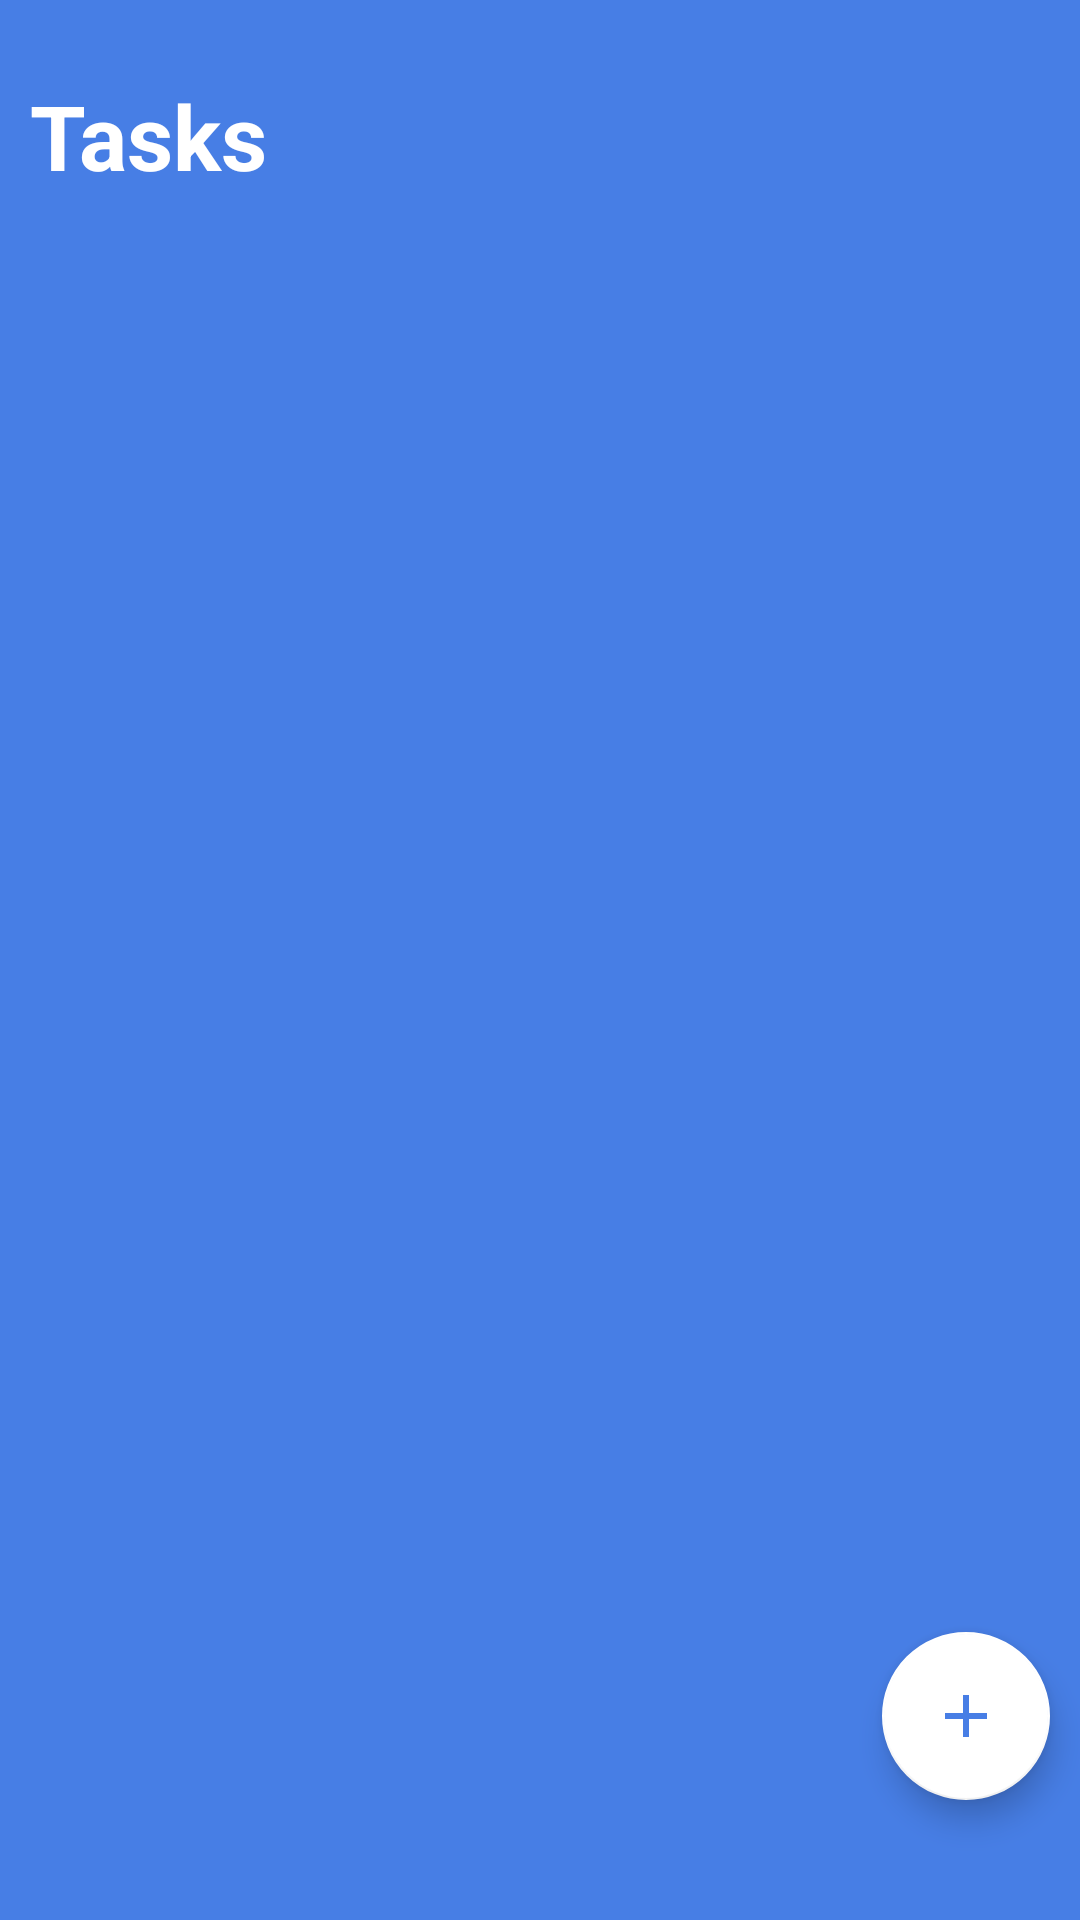

Icon bounding boxes for this 1080 × 1920 phone screenshot, format (x1, y1, x2, y2):
add: (882, 1632, 1050, 1800)
